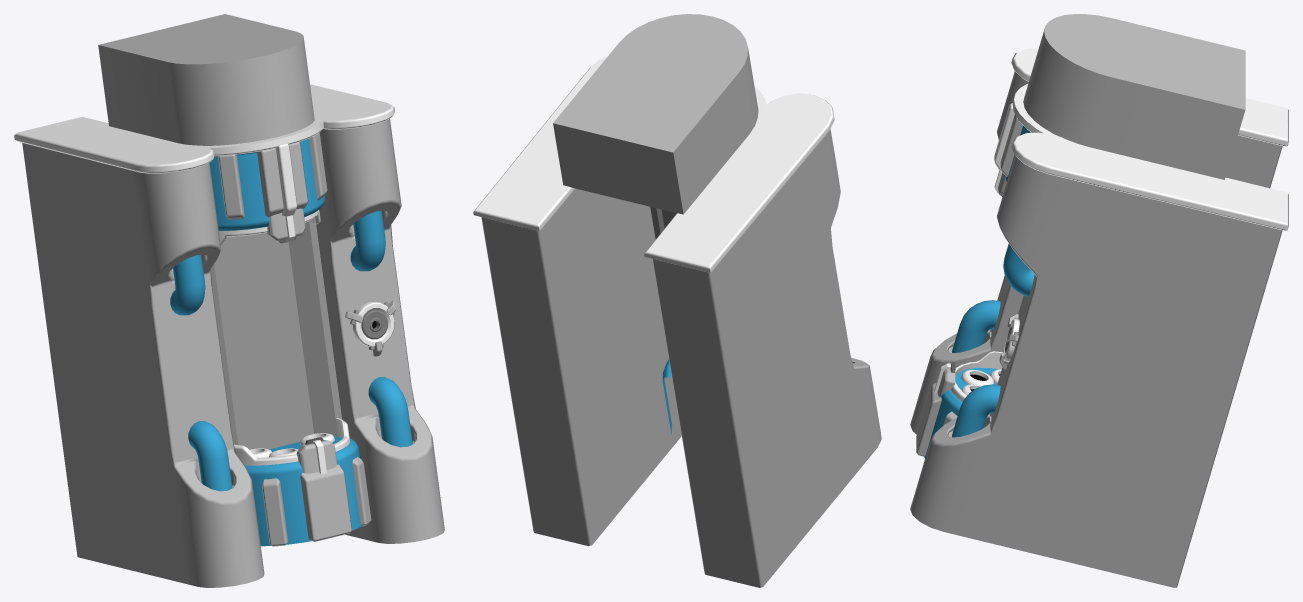
Rendered from Charger_Main.fbx.
3 renders of one model, left to right at view 1: azimuth 30°, elevation 25°; view 2: azimuth 150°, elevation 25°; view 3: azimuth 270°, elevation 25°, orthographic. The views are drawn at different scales.
Visible parts, largest first — view 1: Cylinder.003; view 2: Cylinder.003; view 3: Cylinder.003.
Part boxes in pixels (bbox=[...]): Cylinder.003: bbox=[14, 14, 444, 587]; Cylinder.003: bbox=[473, 14, 881, 587]; Cylinder.003: bbox=[910, 14, 1288, 587].
Bounding box in the file's own units: 209 × 412 × 283.
